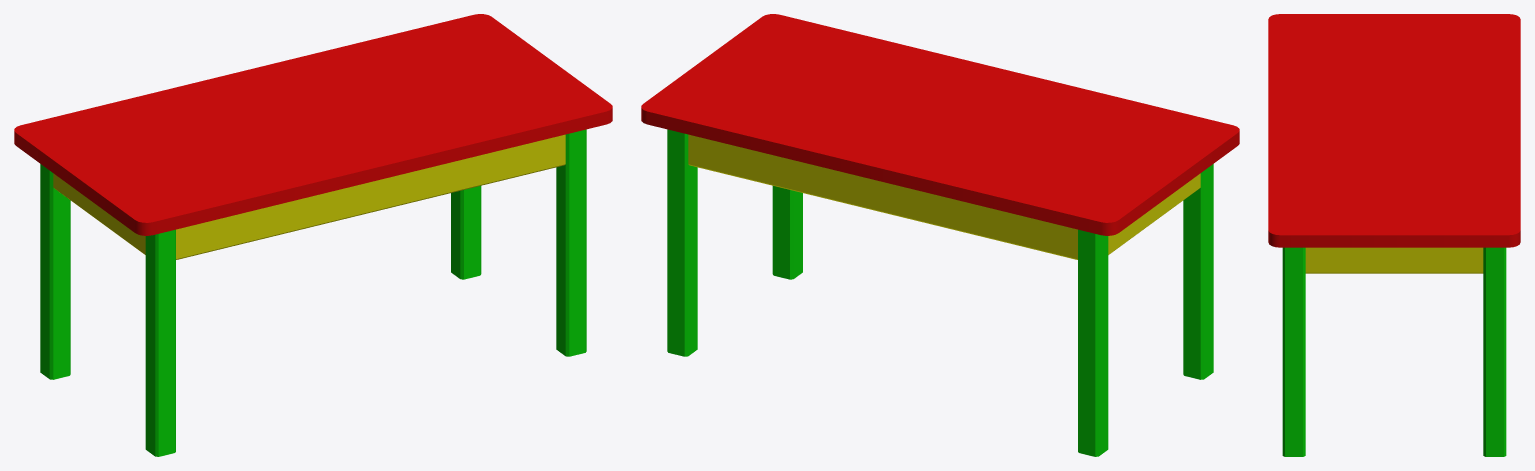
File: coffee_table.fbx
The picture shows the model from 3 angles, left to right: view 1: azimuth 30°, elevation 25°; view 2: azimuth 150°, elevation 25°; view 3: azimuth 270°, elevation 25°; orthographic projection. The views are drawn at different scales.
Parts seen in each view (by area): view 1: coffee_table; view 2: coffee_table; view 3: coffee_table.
Part boxes in pixels (x1=…): coffee_table: x1=14, y1=14, x2=612, y2=456; coffee_table: x1=641, y1=14, x2=1239, y2=456; coffee_table: x1=1268, y1=14, x2=1520, y2=456.
Bounding box in the file's own units: 95.5 × 46.7 × 46.
